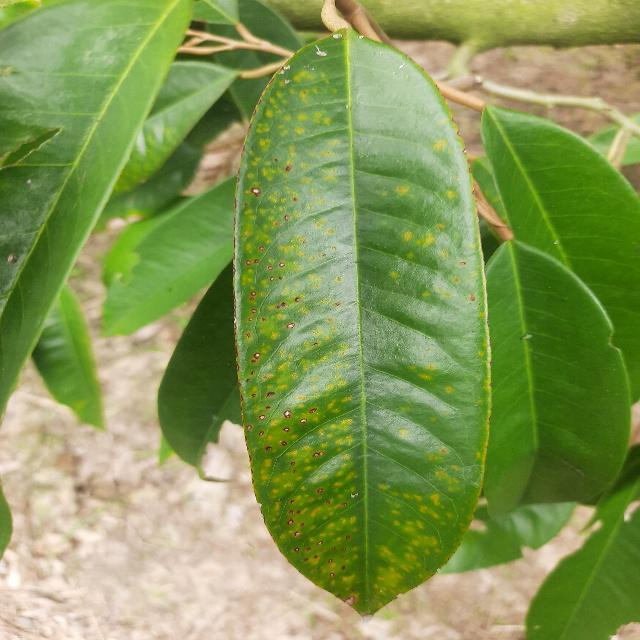Leaf Spot: (217, 21, 499, 635)
